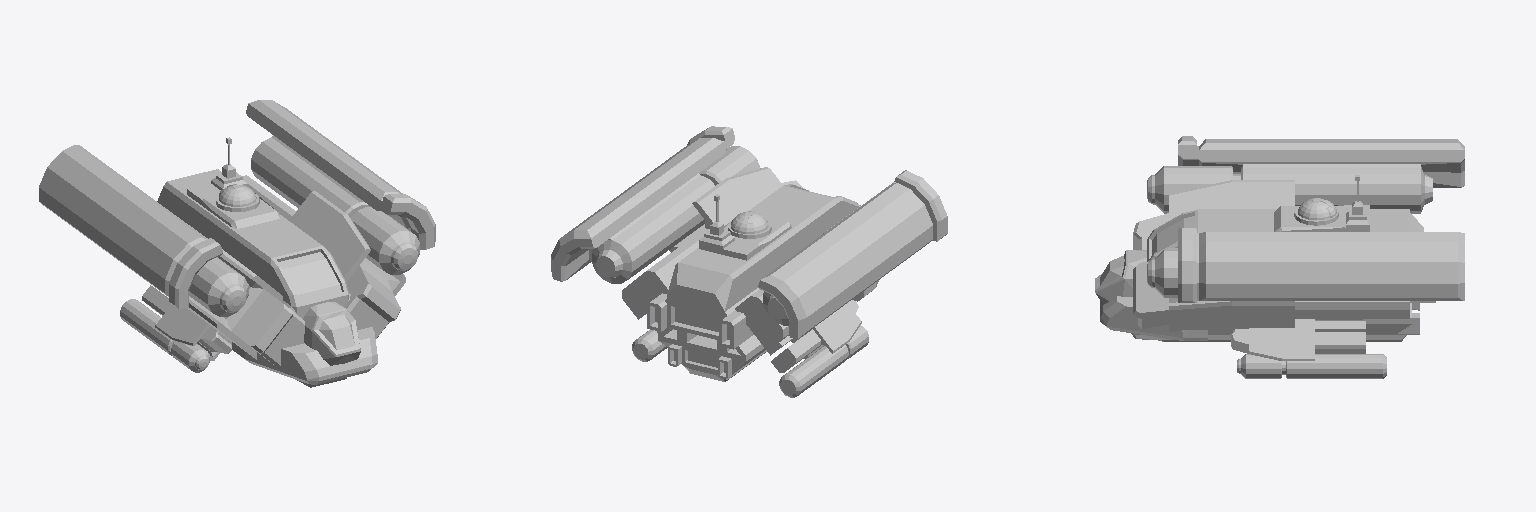
The model's file is Quick ship 4.1.obj.
The picture shows the model from 3 angles: view 1: azimuth 30°, elevation 25°; view 2: azimuth 150°, elevation 25°; view 3: azimuth 270°, elevation 25°; orthographic projection.
Visible parts, largest first — view 1: Cylinder_Cylinder.001, Cube.003_Cube.004, Cube.005_Cube.006, Cube.004_Cube.005, Cube.007_Cube.008, Cube.006_Cube.007, Cube.010_Cube.011, Cylinder.001_Cylinder.002, Sphere_Sphere.001; view 2: Cylinder_Cylinder.001, Cube.005_Cube.006, Cube.003_Cube.004, Cube.008_Cube.009, Cylinder.001_Cylinder.002, Cube.006_Cube.007, Cube.010_Cube.011, Sphere_Sphere.001; view 3: Cylinder_Cylinder.001, Cube.003_Cube.004, Cube.006_Cube.007, Cube.005_Cube.006, Cylinder.001_Cylinder.002, Cube.010_Cube.011, Cube.004_Cube.005, Cube.008_Cube.009, Cube.007_Cube.008, Sphere_Sphere.001.
Boxes of the visible parts, box(x1,y1,x2,y2) form: Cylinder_Cylinder.001: box(39, 100, 435, 316); Cube.003_Cube.004: box(187, 175, 405, 367); Cube.005_Cube.006: box(157, 169, 350, 318); Cube.004_Cube.005: box(232, 327, 377, 384); Cube.007_Cube.008: box(303, 302, 360, 365); Cube.006_Cube.007: box(142, 285, 231, 360); Cube.010_Cube.011: box(187, 137, 280, 228); Cylinder.001_Cylinder.002: box(120, 299, 209, 372); Sphere_Sphere.001: box(216, 184, 259, 211); Cylinder_Cylinder.001: box(551, 126, 947, 338); Cube.005_Cube.006: box(647, 184, 858, 349); Cube.003_Cube.004: box(622, 167, 860, 350); Cube.008_Cube.009: box(658, 328, 766, 381); Cylinder.001_Cylinder.002: box(632, 325, 868, 397); Cube.006_Cube.007: box(657, 300, 861, 372); Cube.010_Cube.011: box(699, 194, 791, 260); Sphere_Sphere.001: box(728, 211, 771, 238); Cylinder_Cylinder.001: box(1147, 136, 1464, 302); Cube.003_Cube.004: box(1133, 180, 1409, 334); Cube.006_Cube.007: box(1231, 319, 1365, 360); Cube.005_Cube.006: box(1147, 209, 1435, 302); Cylinder.001_Cylinder.002: box(1237, 354, 1386, 378); Cube.010_Cube.011: box(1274, 175, 1369, 231); Cube.004_Cube.005: box(1100, 296, 1207, 340); Cube.008_Cube.009: box(1131, 303, 1419, 341); Cube.007_Cube.008: box(1095, 250, 1146, 304); Sphere_Sphere.001: box(1294, 198, 1338, 225).
Size of the model in its own units: 9.09 by 5.73 by 11.14.